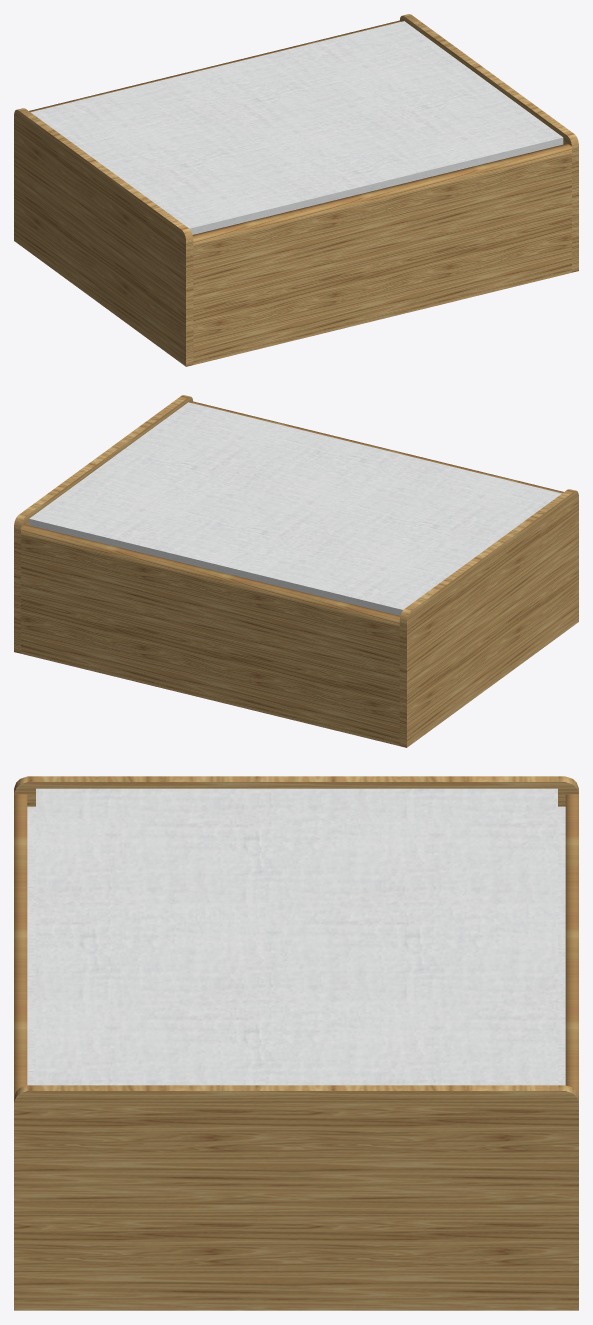
Rendered from Bed.FBX.
3 renders of one model, top to bottom at view 1: azimuth 30°, elevation 25°; view 2: azimuth 150°, elevation 25°; view 3: azimuth 270°, elevation 25°, orthographic. The views are drawn at different scales.
Visible parts, largest first — view 1: Platform, Mattress; view 2: Platform, Mattress; view 3: Mattress, Platform.
Part boxes in pixels (<box>): Platform: <box>14,14,578,366</box>; Mattress: <box>31,21,563,234</box>; Platform: <box>14,395,578,747</box>; Mattress: <box>29,402,561,615</box>; Mattress: <box>36,788,557,1085</box>; Platform: <box>14,776,578,1310</box>.
Size of the model in its own units: 83 by 27 by 63.
1 material, 1 textured.
